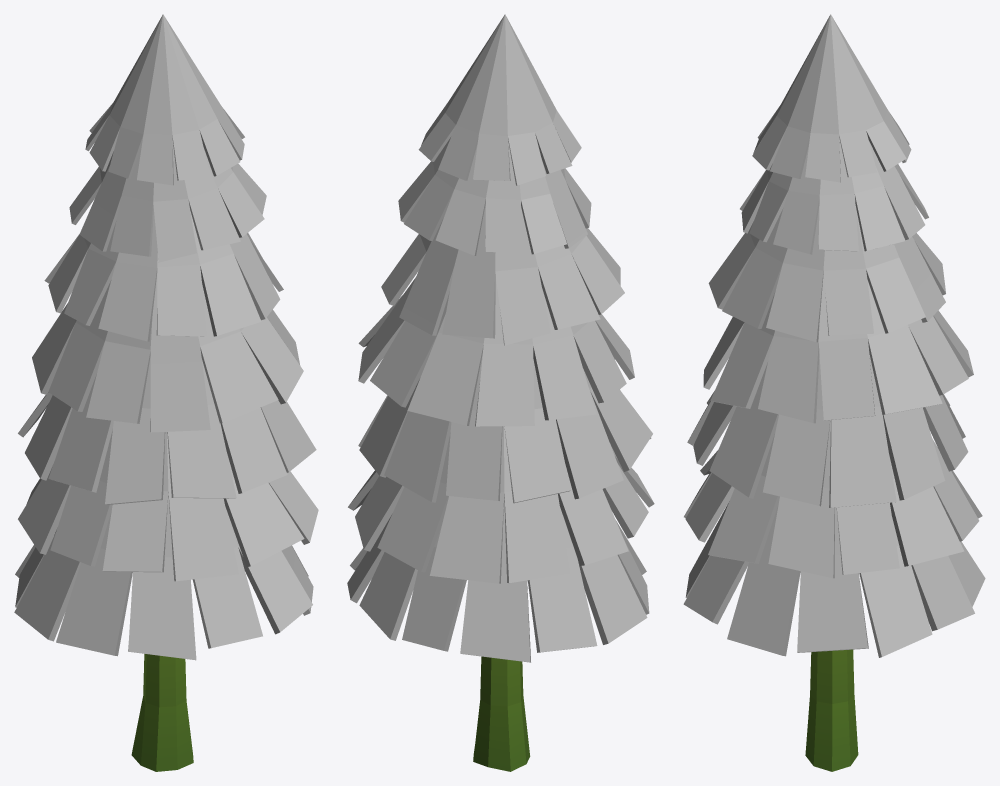
File: Tree_18.fbx
3 views of the same model, side by side, from view 1: azimuth 30°, elevation 25°; view 2: azimuth 150°, elevation 25°; view 3: azimuth 270°, elevation 25° (orthographic).
Visible parts, largest first — view 1: Tree_18; view 2: Tree_18; view 3: Tree_18.
Part boxes in pixels (x1,y1,x2,y2): Tree_18: (14, 14, 318, 771); Tree_18: (347, 14, 654, 771); Tree_18: (683, 14, 985, 771).
Bounding box in the file's own units: 3.83 × 10.32 × 3.8.
